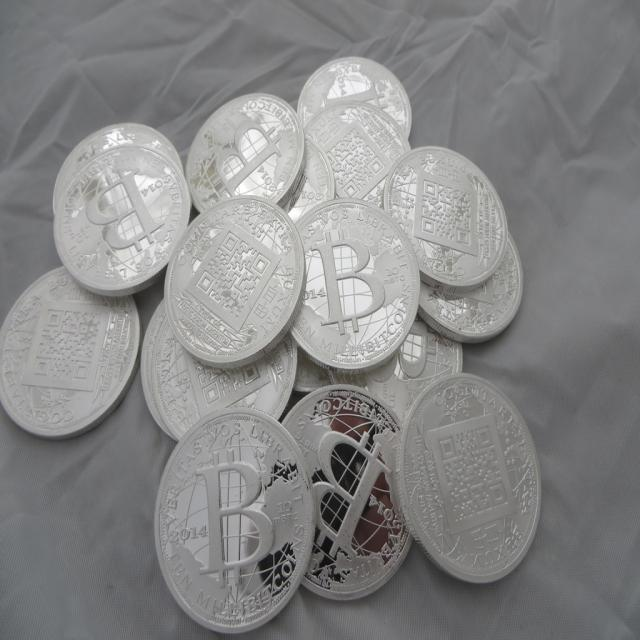Coin: (0, 55, 544, 635)
